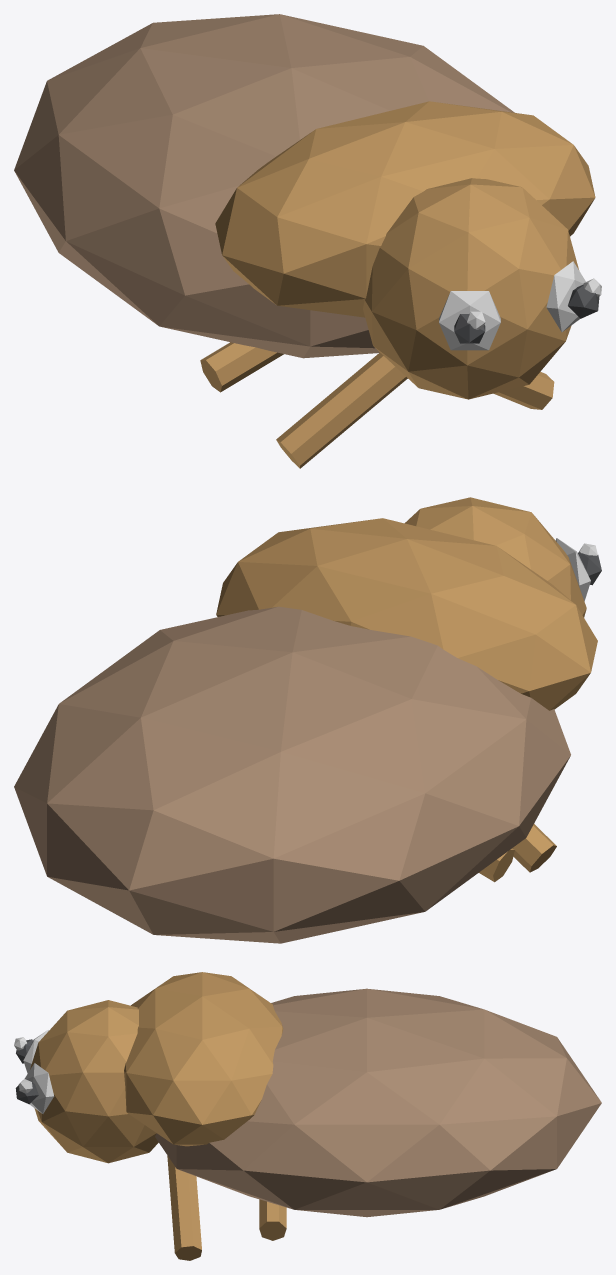
Rendered from ceroplastes-sinensis.glb.
3 views of the same model, one above another, from view 1: azimuth 30°, elevation 25°; view 2: azimuth 150°, elevation 25°; view 3: azimuth 270°, elevation 25° (orthographic). The views are drawn at different scales.
Visible parts, largest first — view 1: body, pronotum, head, leg0-l, f-eye-r, leg1-l, f-eye-l, leg0-r, f-pupil-l, f-pupil-r; view 2: body, pronotum, head, leg0-l, f-eye-r; view 3: body, pronotum, head, leg0-r, leg1-r, f-eye-l.
Part boxes in pixels (bbox=[...]): body: bbox=[14, 14, 514, 358]; pronotum: bbox=[215, 101, 595, 317]; head: bbox=[363, 178, 579, 399]; leg0-l: bbox=[276, 352, 407, 468]; f-eye-r: bbox=[439, 291, 500, 350]; leg1-l: bbox=[200, 342, 283, 392]; f-eye-l: bbox=[546, 261, 585, 332]; leg0-r: bbox=[493, 372, 554, 409]; f-pupil-l: bbox=[568, 284, 599, 318]; f-pupil-r: bbox=[454, 314, 485, 343]; body: bbox=[14, 606, 570, 943]; pronotum: bbox=[216, 518, 597, 710]; head: bbox=[405, 497, 586, 617]; leg0-l: bbox=[512, 824, 556, 872]; f-eye-r: bbox=[555, 538, 590, 601]; body: bbox=[155, 988, 601, 1217]; pronotum: bbox=[124, 972, 283, 1146]; head: bbox=[30, 1000, 158, 1163]; leg0-r: bbox=[167, 1155, 201, 1260]; leg1-r: bbox=[259, 1199, 286, 1240]; f-eye-l: bbox=[24, 1063, 53, 1113].
Bounding box in the file's own units: 0.32 × 0.2096 × 0.5004.
